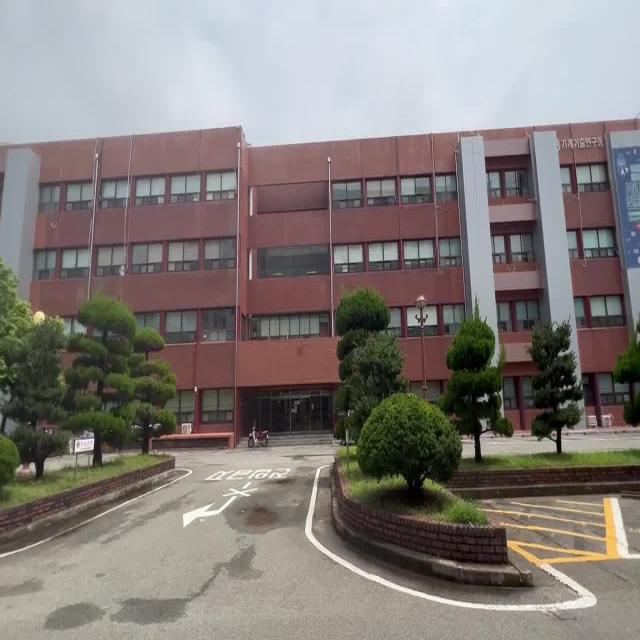building: (18, 132, 613, 304)
